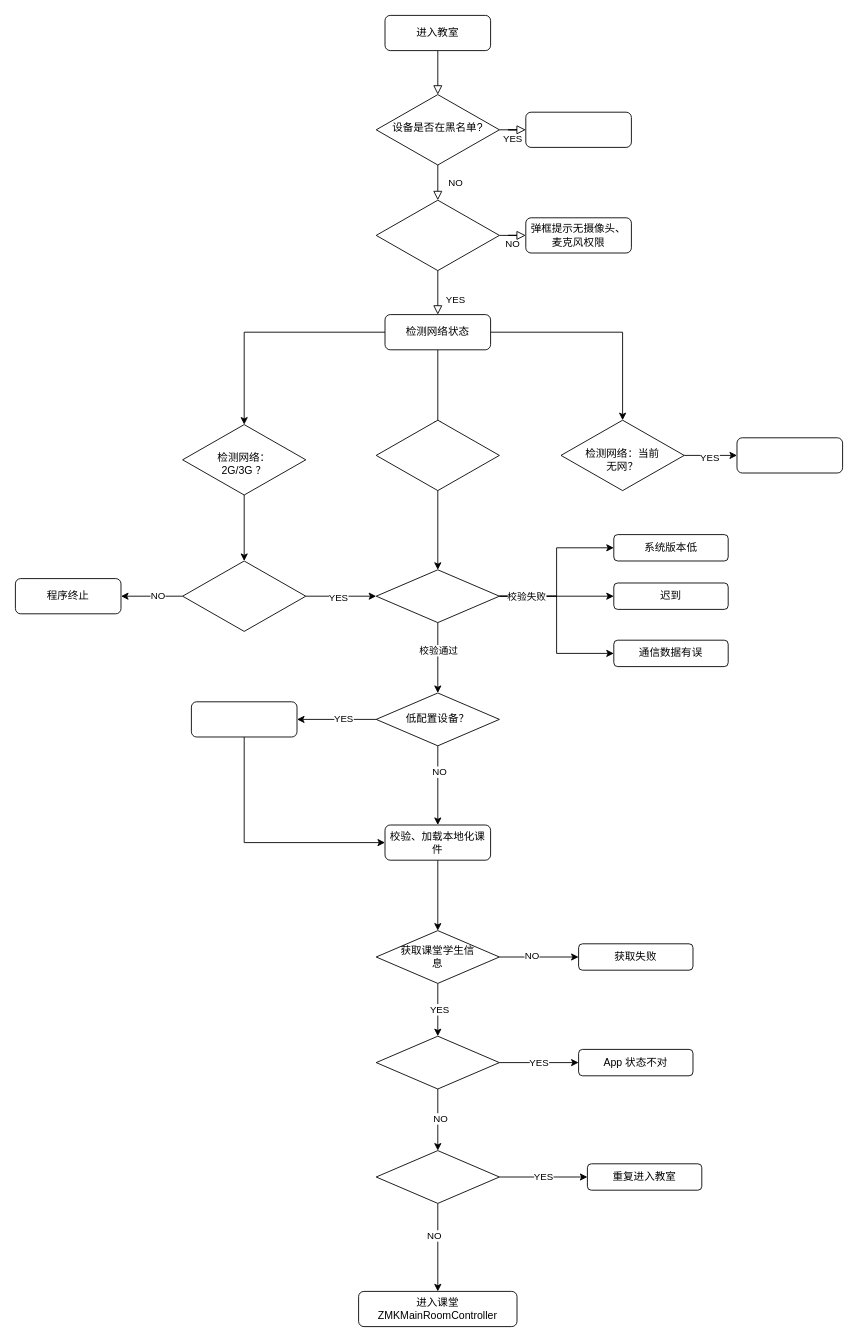
Some shapes in this 858 by 1342 pixel diagram are drawn without their labels. The shapes that lost their labels are listed below. From the top down, each one's box as (x1, y1, x2, y2) in pixels, then its label:
(525, 111, 631, 147): 弹框提示“被拉黑设备，不能进入教室”
(375, 199, 499, 271): 获取摄像头权限、麦克风权限?
(375, 419, 499, 491): 检测网络：WIFI？
(736, 437, 843, 473): 弹框提示“没有网络，不能进入教室”
(182, 560, 306, 631): 弹框选择：是否消耗流量进入教室 ？
(375, 569, 499, 623): 后端校验？
(191, 701, 297, 737): 弹框提示“配置过低，建议更换高配置设备”
(375, 1035, 499, 1089): 应用是否在后台？
(375, 1150, 499, 1203): 是否存在课堂？
